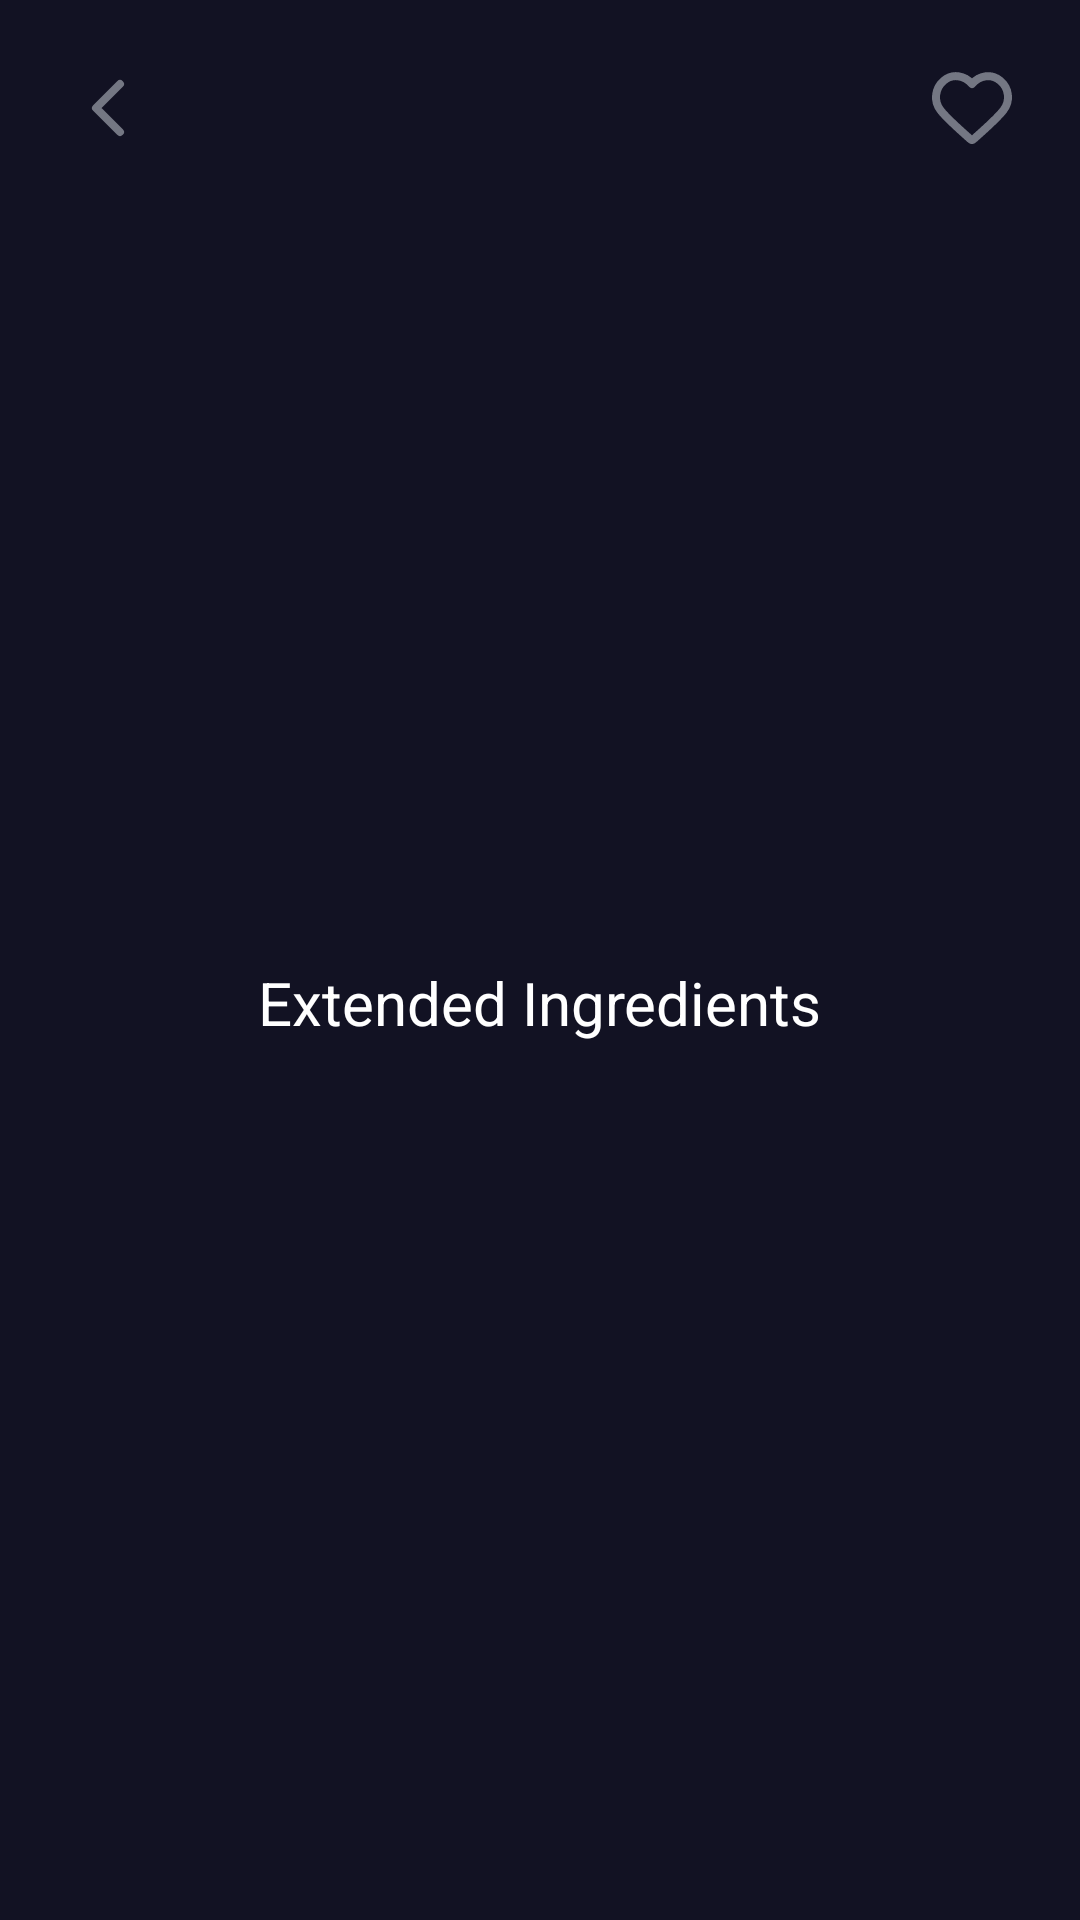

Named icons in this screenshot (1080x1920) and their bounding boxes, bbox(x1, y1, x2, y2):
back: bbox(92, 80, 124, 136)
heart: bbox(932, 72, 1012, 144)
